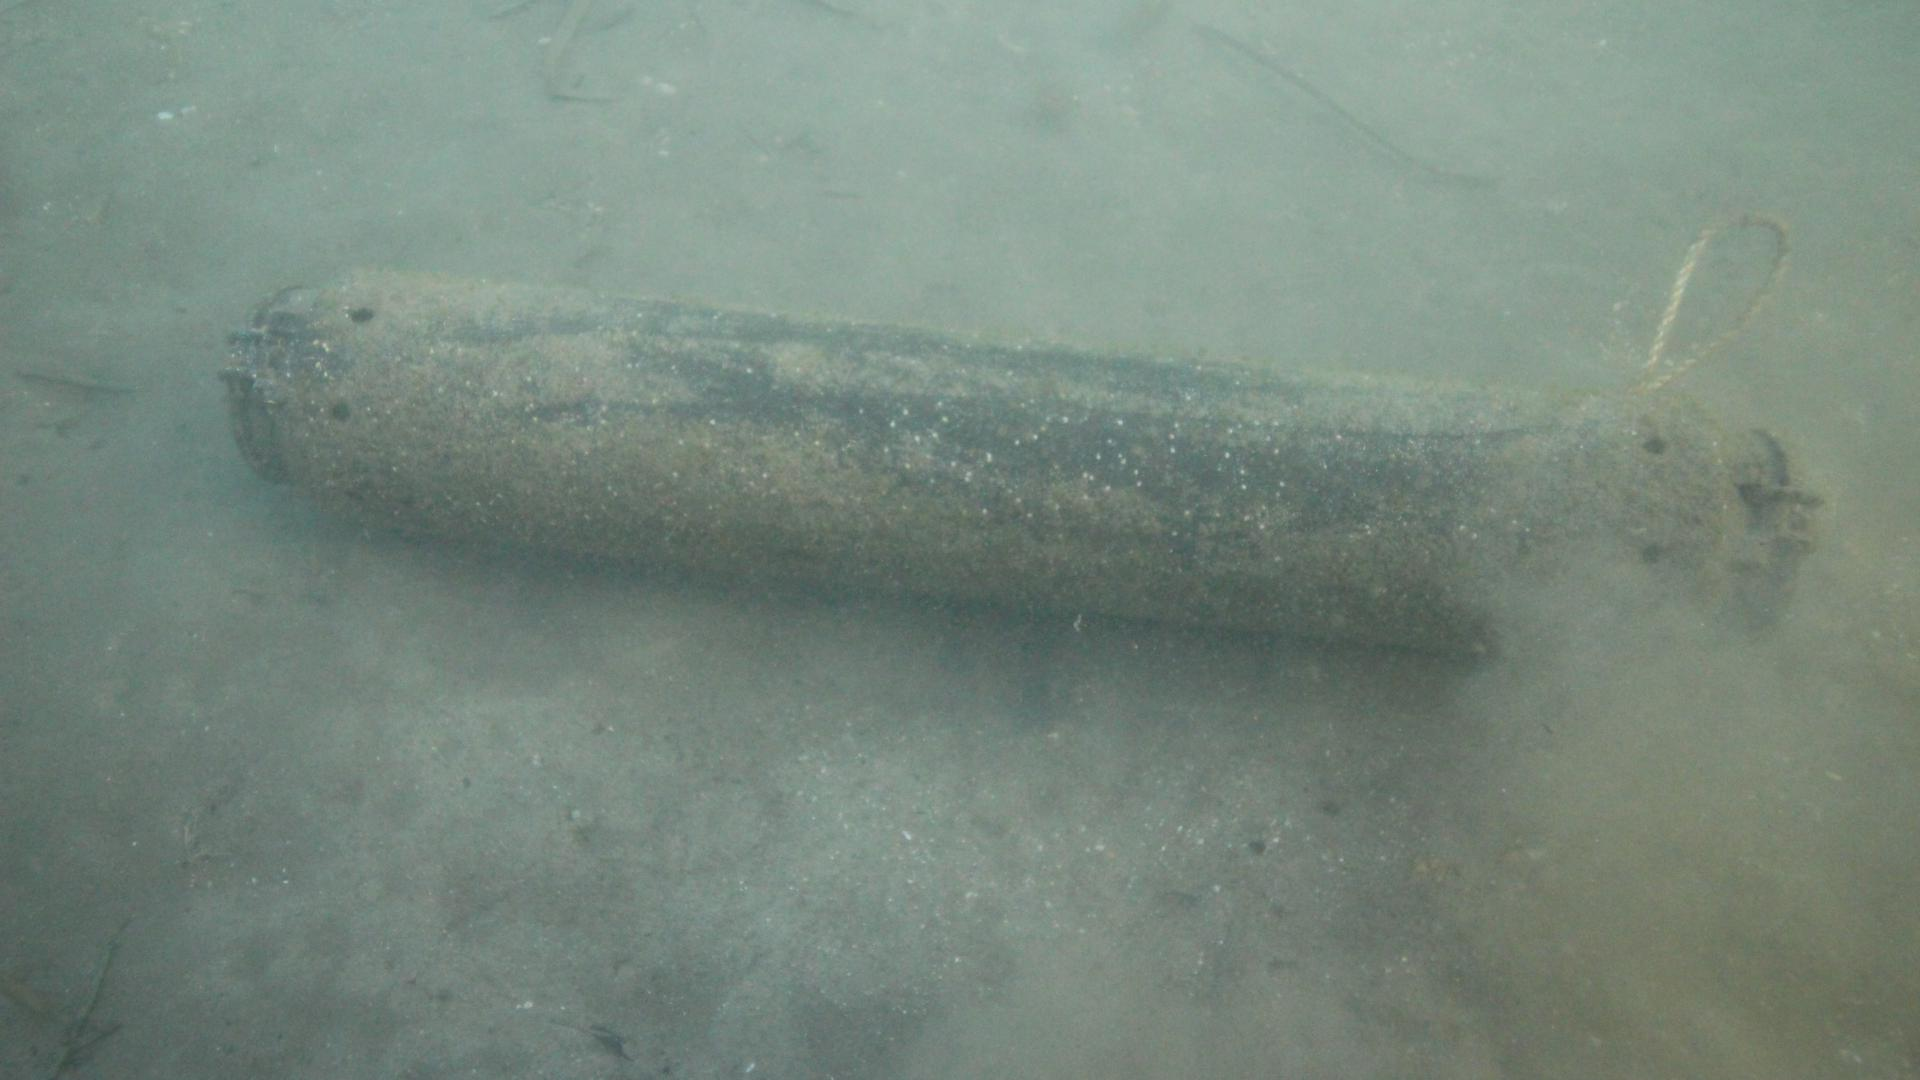eel fish trap: (218, 262, 1829, 667)
rope: (1629, 212, 1792, 396)
